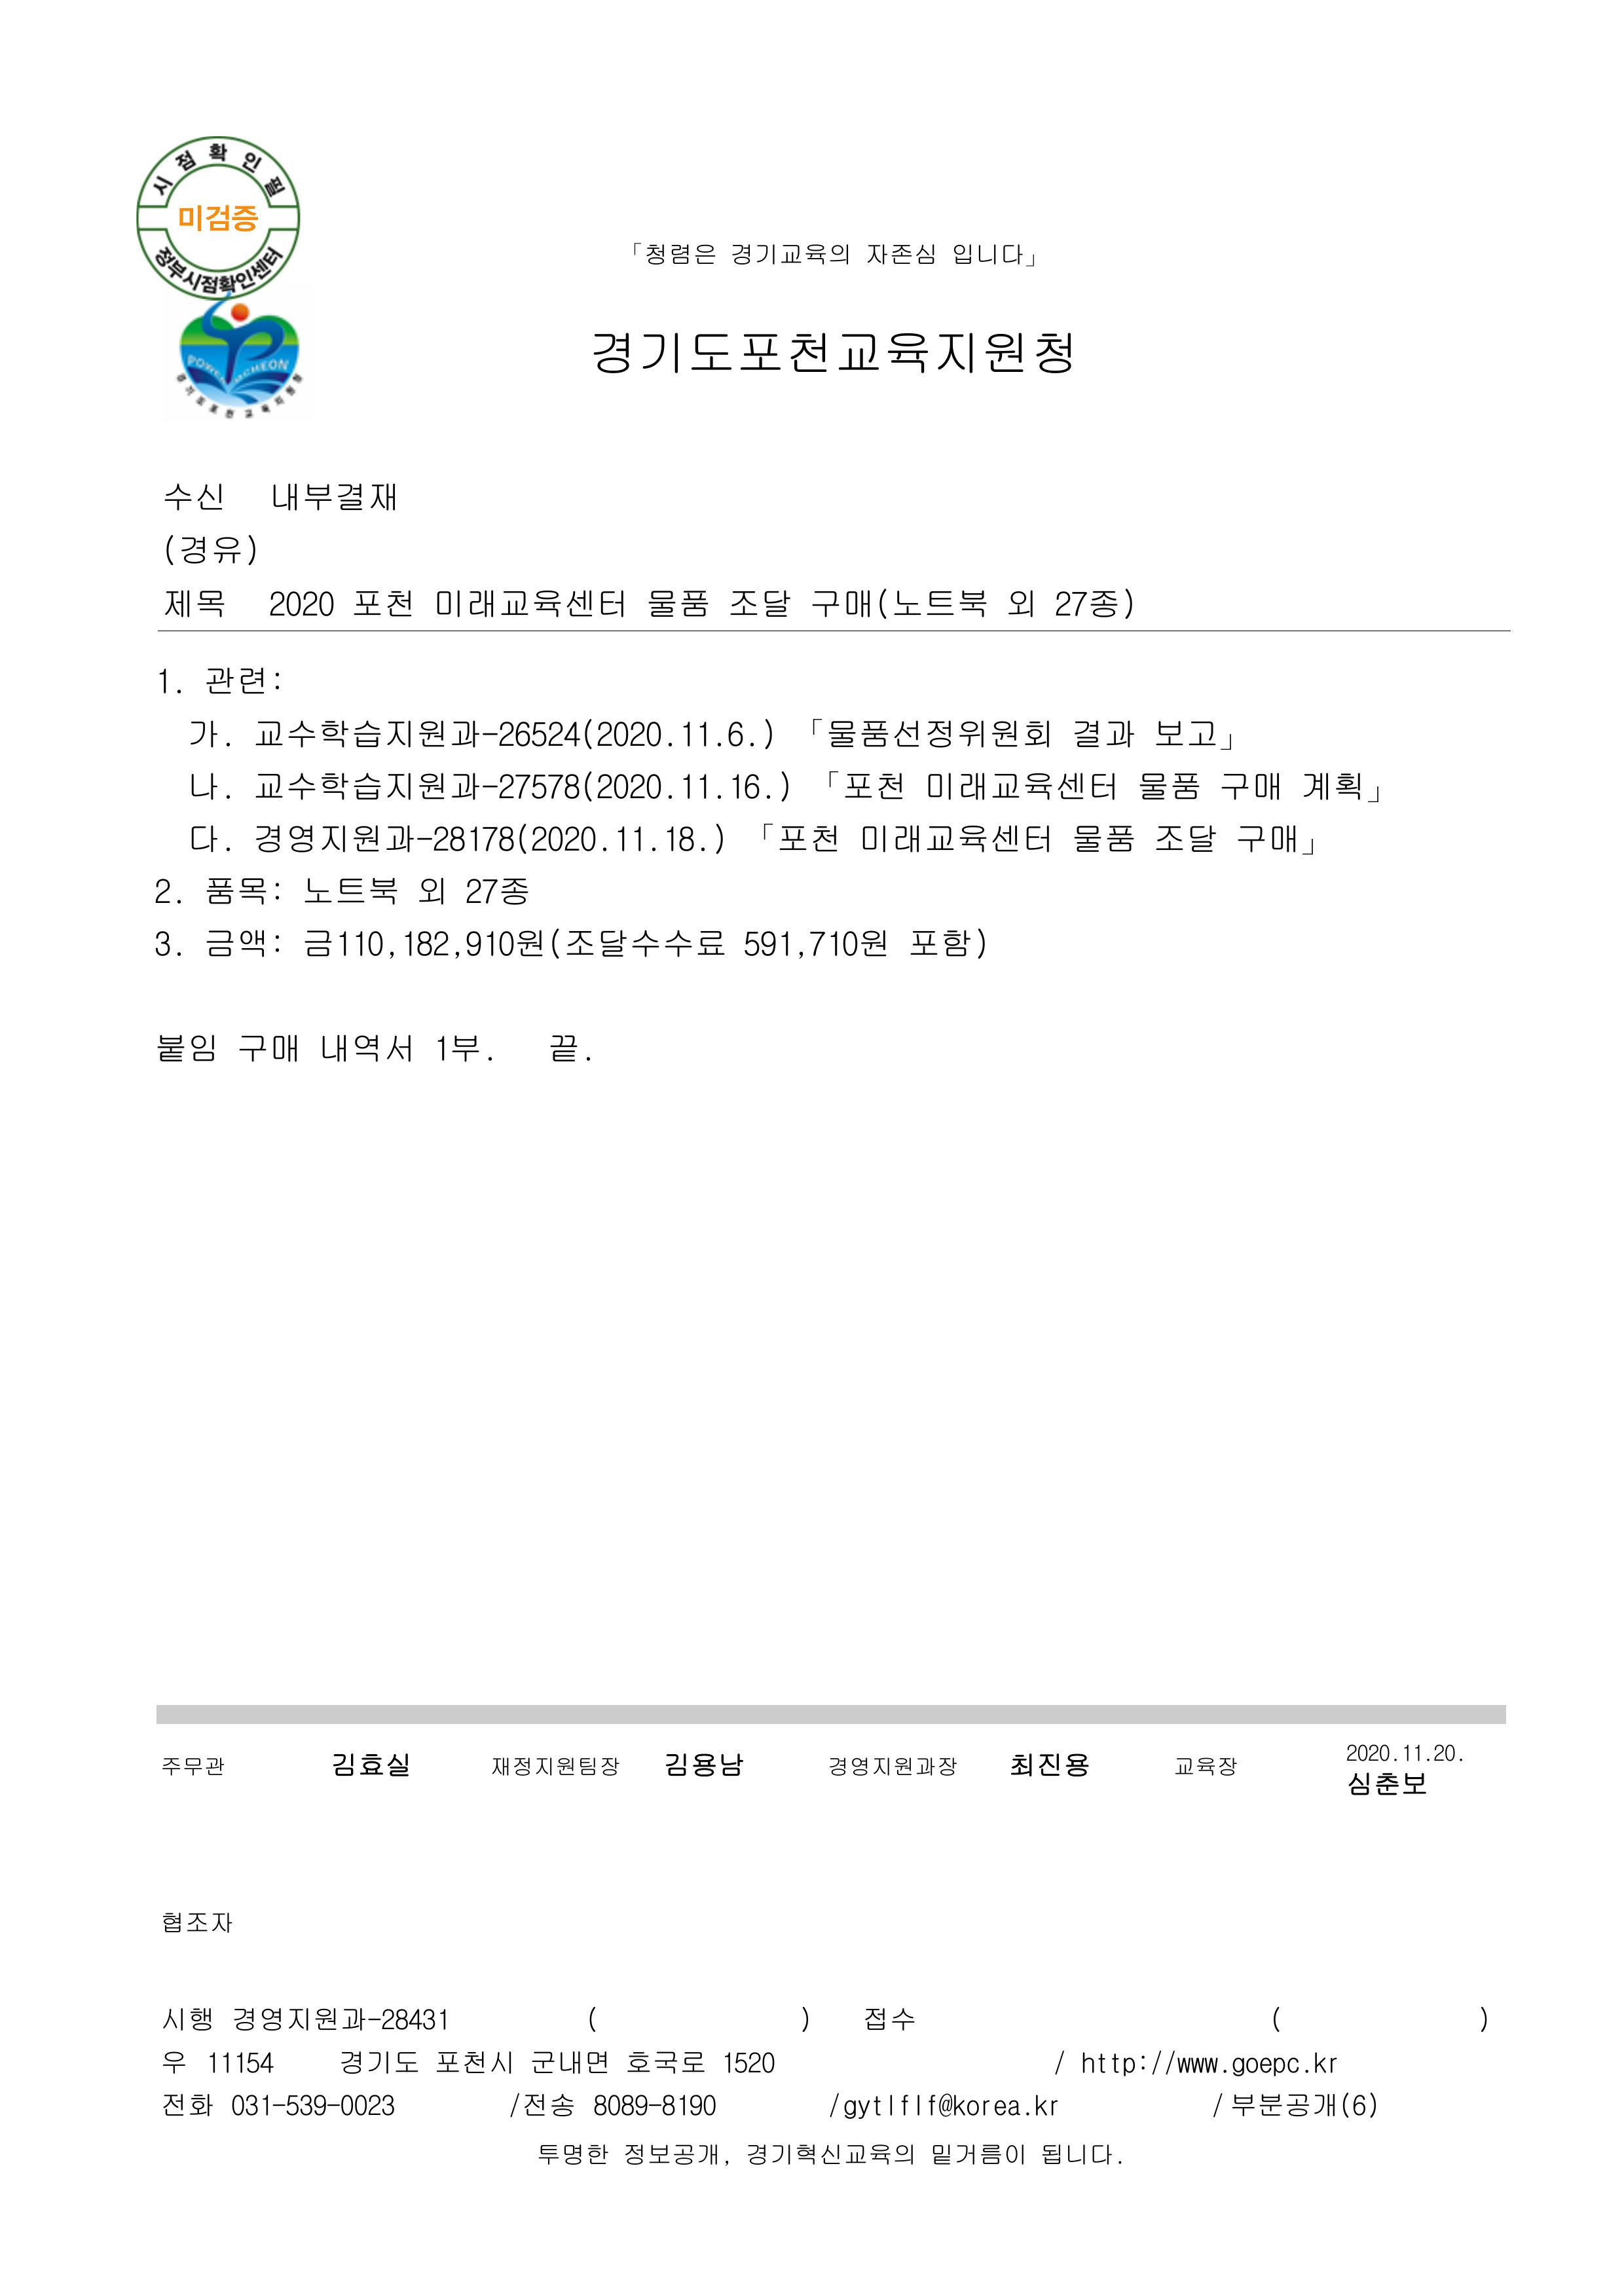t: (591, 329, 1076, 380), (255, 713, 671, 754), (255, 766, 666, 803), (251, 817, 613, 856), (824, 713, 1051, 754), (921, 766, 1118, 803), (434, 583, 627, 620), (856, 821, 1051, 856), (807, 583, 986, 620), (545, 924, 724, 961), (738, 924, 889, 961), (742, 2137, 917, 2168), (1225, 2088, 1380, 2123), (269, 476, 397, 517), (228, 2000, 341, 2037), (315, 1028, 417, 1065), (490, 1754, 624, 1782), (828, 1756, 961, 1784), (301, 924, 397, 961), (162, 531, 258, 566), (1234, 817, 1322, 856), (301, 872, 397, 907), (620, 2137, 724, 2168), (1051, 583, 1137, 620), (1297, 766, 1383, 803), (204, 872, 283, 910), (176, 200, 258, 237), (462, 924, 545, 961), (907, 924, 990, 961), (659, 1747, 745, 1782), (204, 662, 283, 699), (1007, 1747, 1090, 1782), (344, 2007, 452, 2033), (731, 244, 845, 269), (673, 717, 761, 749), (1151, 717, 1237, 749), (337, 2047, 424, 2079), (329, 1747, 411, 1778), (1345, 1768, 1427, 1799), (527, 2044, 610, 2075), (1148, 821, 1220, 856), (724, 583, 793, 620), (1069, 717, 1137, 754), (1137, 766, 1206, 803), (204, 924, 272, 961), (534, 2137, 613, 2168), (659, 821, 728, 856), (162, 583, 227, 620), (645, 583, 710, 620), (838, 766, 903, 803), (924, 2095, 1021, 2119), (932, 2144, 1028, 2168), (237, 1028, 301, 1065), (434, 2047, 517, 2075), (624, 2047, 707, 2075), (842, 2095, 924, 2123), (773, 821, 838, 856), (1072, 821, 1137, 856), (265, 589, 337, 620), (156, 1028, 218, 1065), (642, 239, 717, 269), (506, 2088, 576, 2119), (352, 583, 411, 620), (953, 244, 1040, 269), (397, 924, 455, 961), (1216, 771, 1283, 803), (462, 875, 527, 907), (165, 480, 227, 513), (204, 2047, 276, 2075), (1079, 2051, 1151, 2079), (656, 2089, 721, 2119), (337, 2088, 397, 2119), (863, 244, 939, 269), (610, 821, 663, 856), (1044, 2144, 1118, 2168), (589, 2089, 649, 2119), (431, 1033, 487, 1065), (162, 2088, 218, 2119), (861, 2000, 914, 2033), (1230, 2054, 1301, 2079), (673, 771, 728, 803), (165, 1912, 232, 1937), (186, 821, 232, 854), (162, 2005, 214, 2033), (279, 2089, 329, 2119), (1172, 1757, 1241, 1778), (721, 2051, 779, 2075), (162, 1757, 227, 1778), (227, 2089, 272, 2119), (186, 717, 228, 749), (724, 771, 766, 803), (548, 1028, 584, 1065), (1165, 2054, 1223, 2075), (1345, 1743, 1396, 1764), (1004, 589, 1035, 620), (417, 875, 448, 907), (190, 773, 227, 800), (155, 931, 179, 961), (1033, 2095, 1062, 2119), (156, 671, 183, 696), (155, 879, 176, 907), (1431, 1743, 1459, 1764), (1313, 2054, 1341, 2075), (1403, 1743, 1427, 1764), (165, 2051, 186, 2072), (756, 724, 773, 749)
